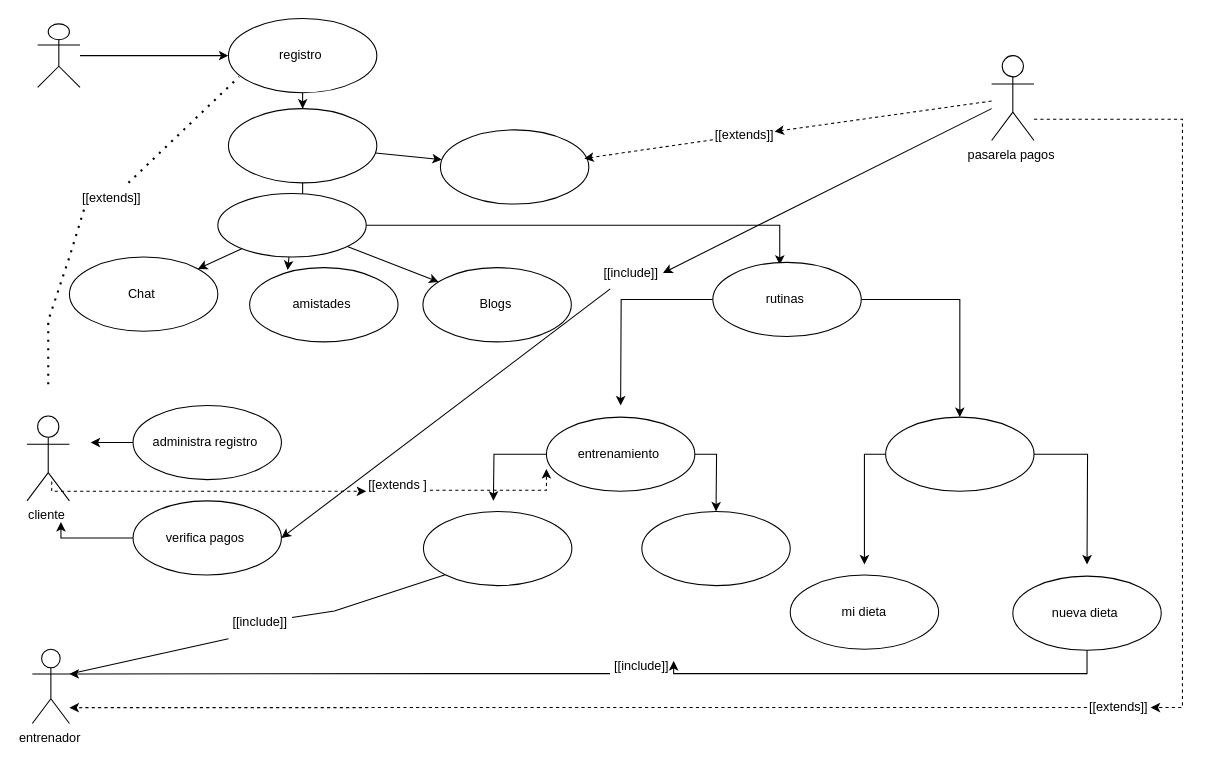
The diagram is 1209 pixels wide and 764 high, and some of its shapes have lost their labels. The shapes that lost their labels are listed below. From the top down, each one's centre as x and y in pixels, then its label:
At (58,55): "usuario".
At (302,145): "inicio de sesion".
At (514,166): "pagos".
At (291,224): "Social".
At (959,453): "alimentación".
At (497,548): "nueva rutina".
At (715,548): "mi rutina".
